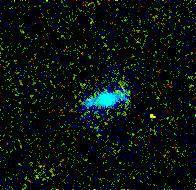star: (137, 101, 167, 131)
